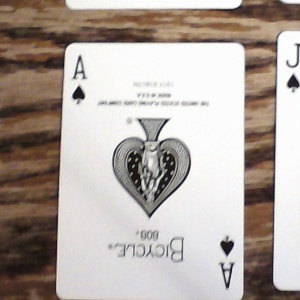card: (56, 41, 243, 299)
